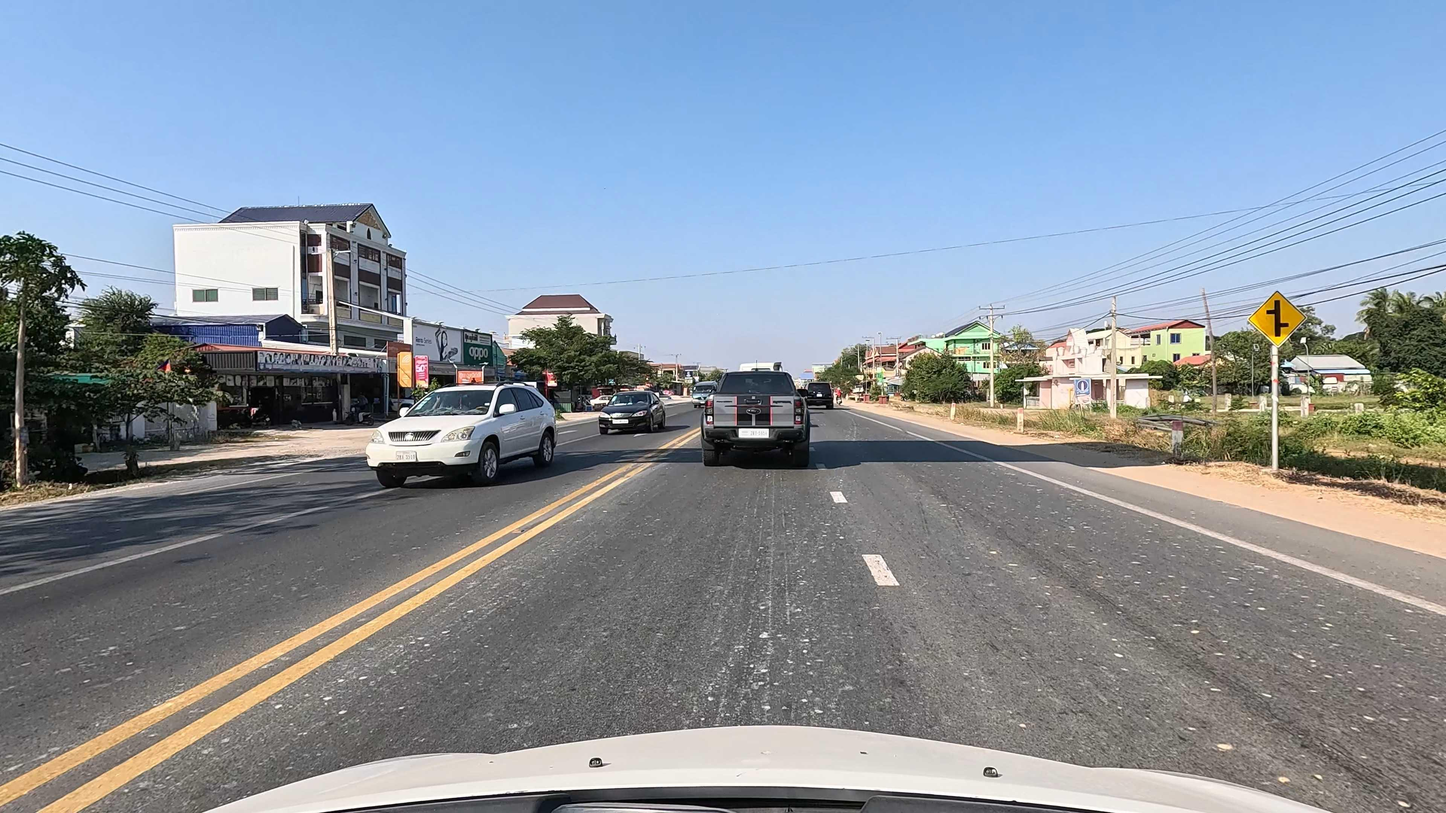offset_road_junction_left_right: (1130, 186, 1212, 260)
parking_prohibited: (1246, 289, 1309, 349)
